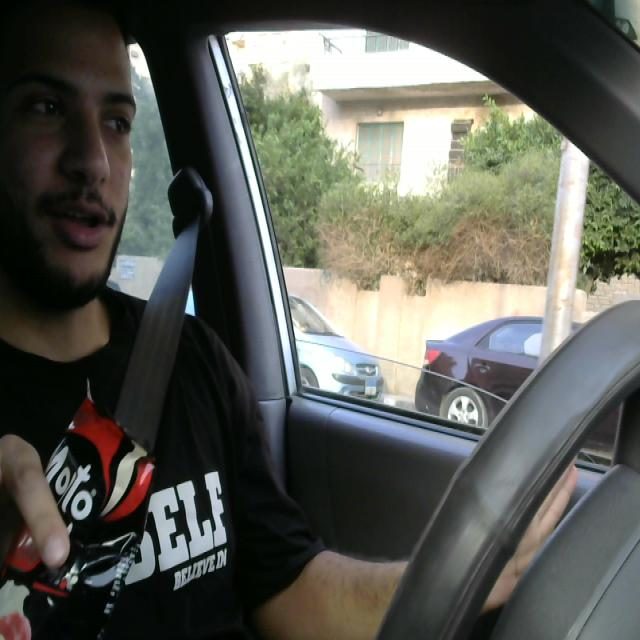eating: (0, 366, 154, 640)
